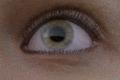eye: (42, 19, 74, 49)
